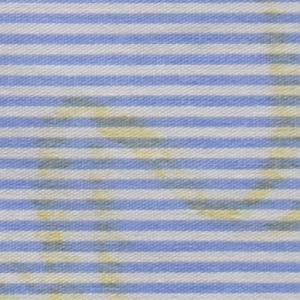Stain: (32, 1, 300, 300)
